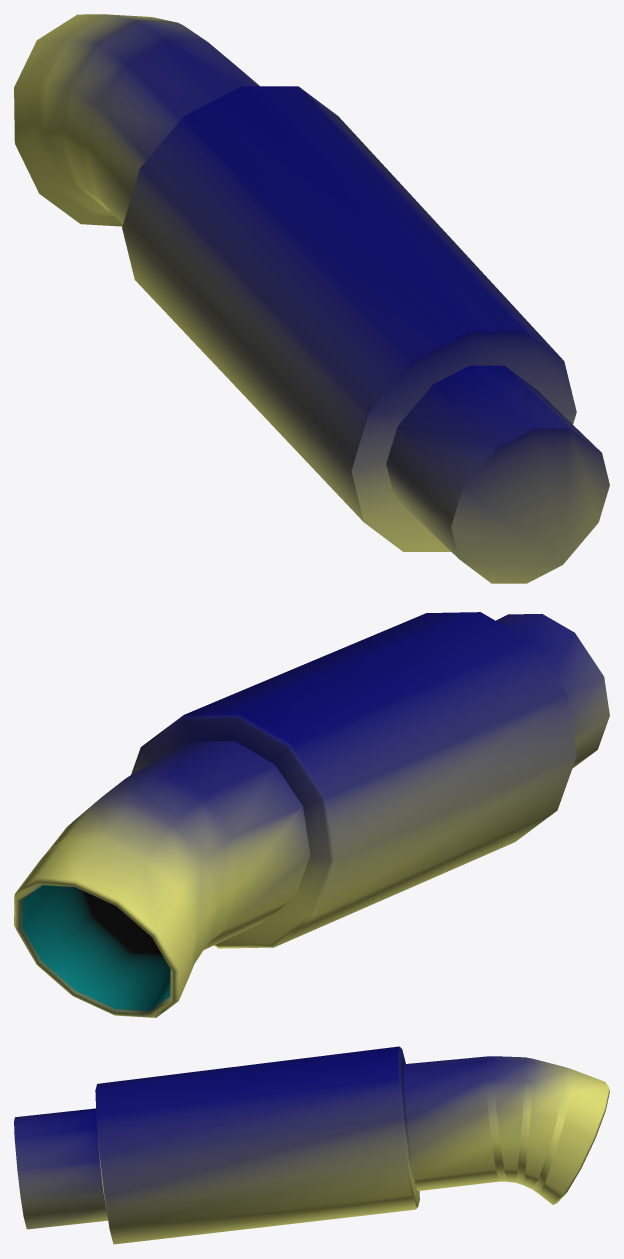
File: Car_Nissan_SkylineGTRVspecR34_1999_Exhausts_SetFE.fbx
The picture shows the model from 3 angles, top to bottom: view 1: azimuth 30°, elevation 25°; view 2: azimuth 150°, elevation 25°; view 3: azimuth 270°, elevation 25°; orthographic projection. The views are drawn at different scales.
Visible parts, largest first — view 1: Exhausts 6; view 2: Exhausts 6; view 3: Exhausts 6.
Part boxes in pixels (<box>): Exhausts 6: <box>14,14,609,583</box>; Exhausts 6: <box>14,612,609,1017</box>; Exhausts 6: <box>14,1046,609,1244</box>.
Bounding box in the file's own units: 0.1343 × 0.1603 × 0.4616.
